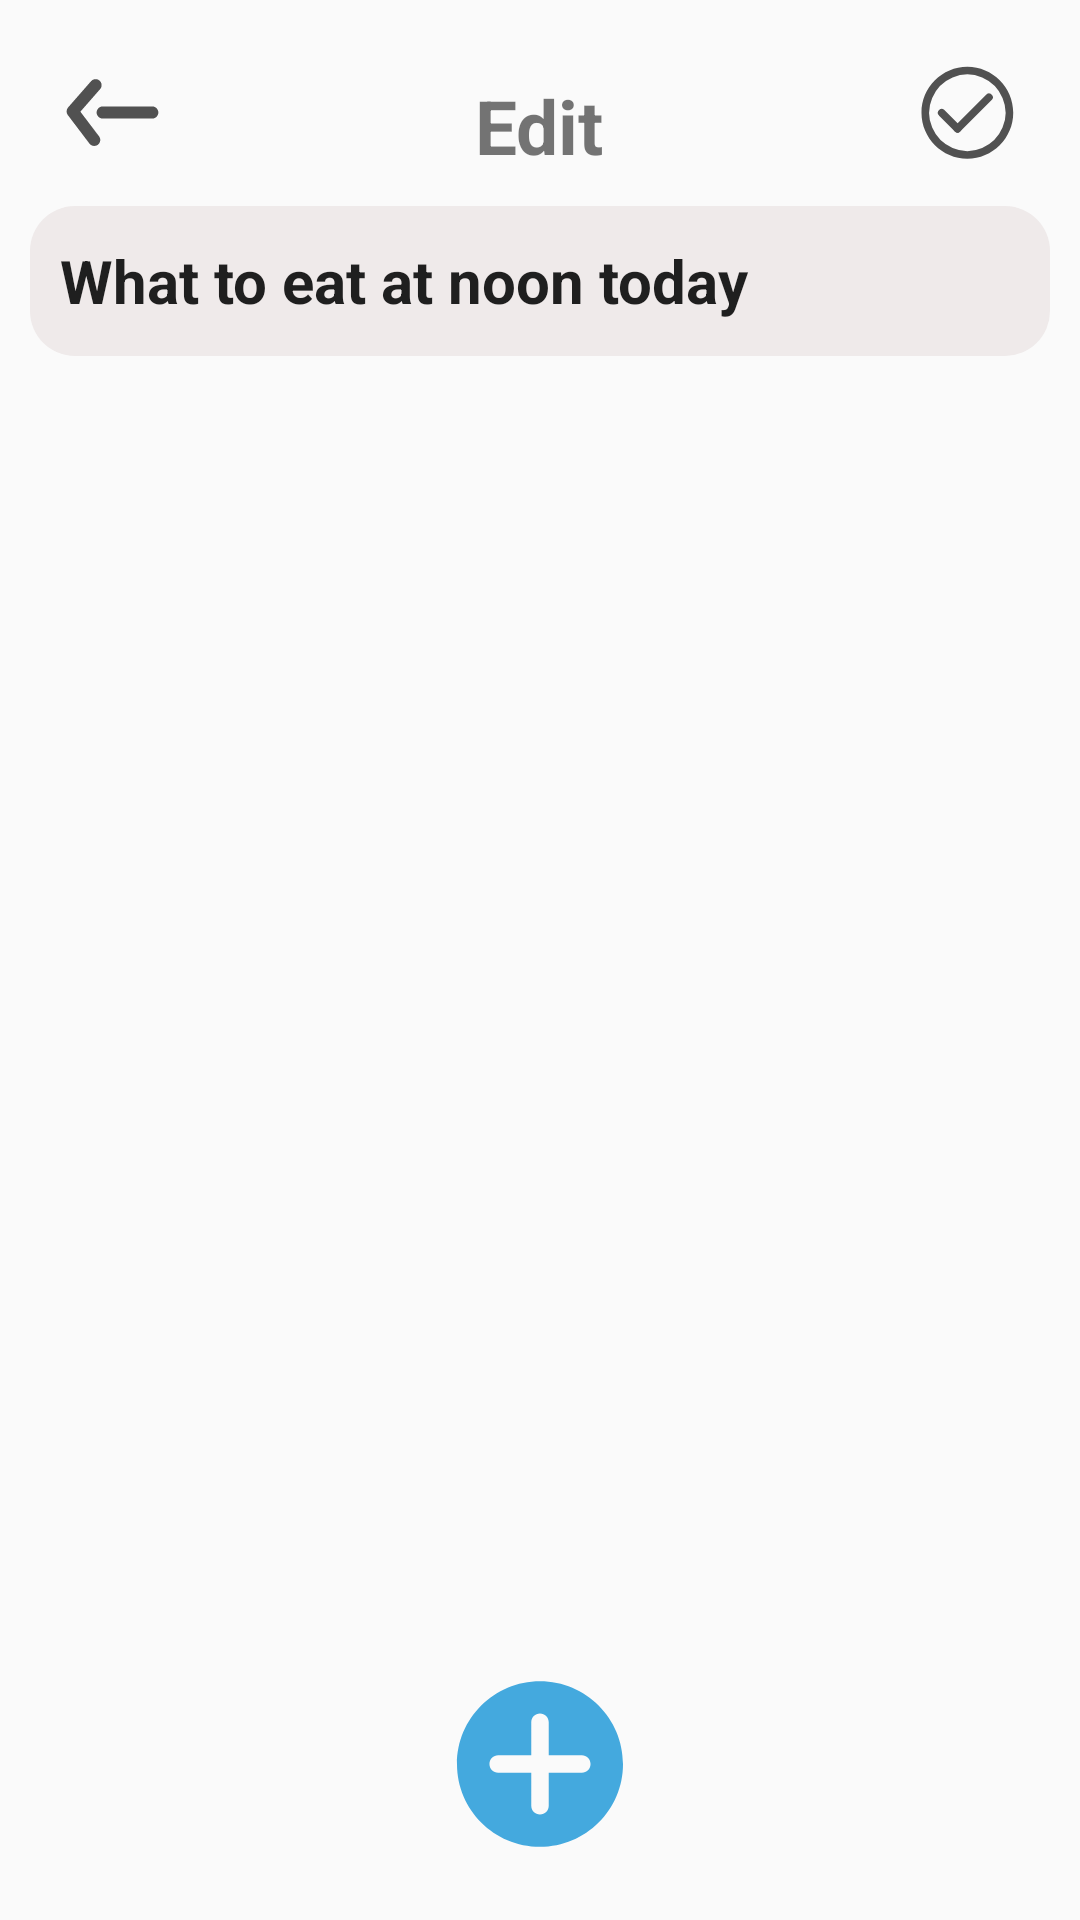

Icon click points for this 1080 × 1920 phone screenshot, format (x=x, y=y):
add config: (x=540, y=1764)
back: (x=112, y=112)
save: (x=967, y=112)
